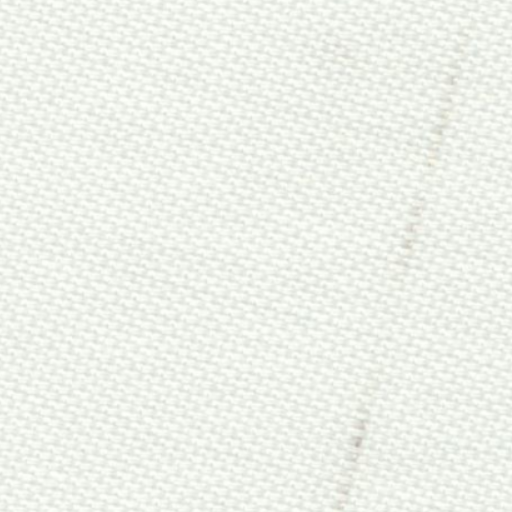WuZi: (329, 22, 477, 503)
